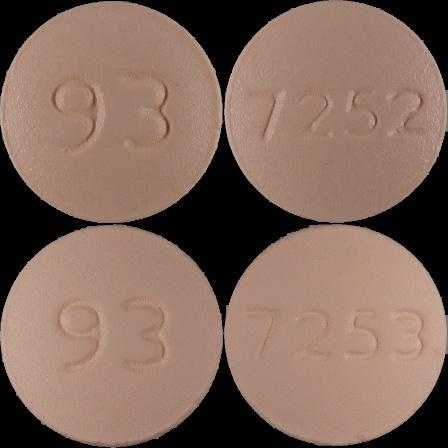0615-7695: (0, 0, 224, 224)
